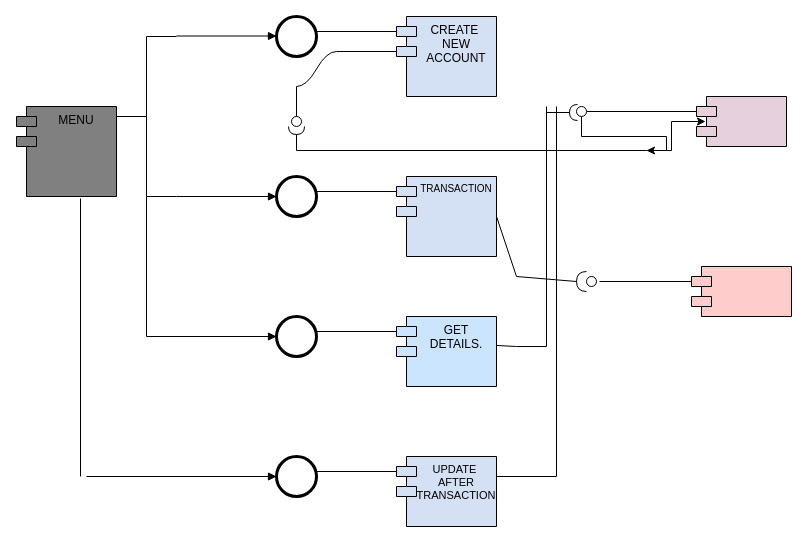
Image size: 808x543. Some labels were removed from this diagram. Each missing label, with the centre of its shape:
READ FILE: point (741, 291)
SAVE FILE: point (741, 121)
